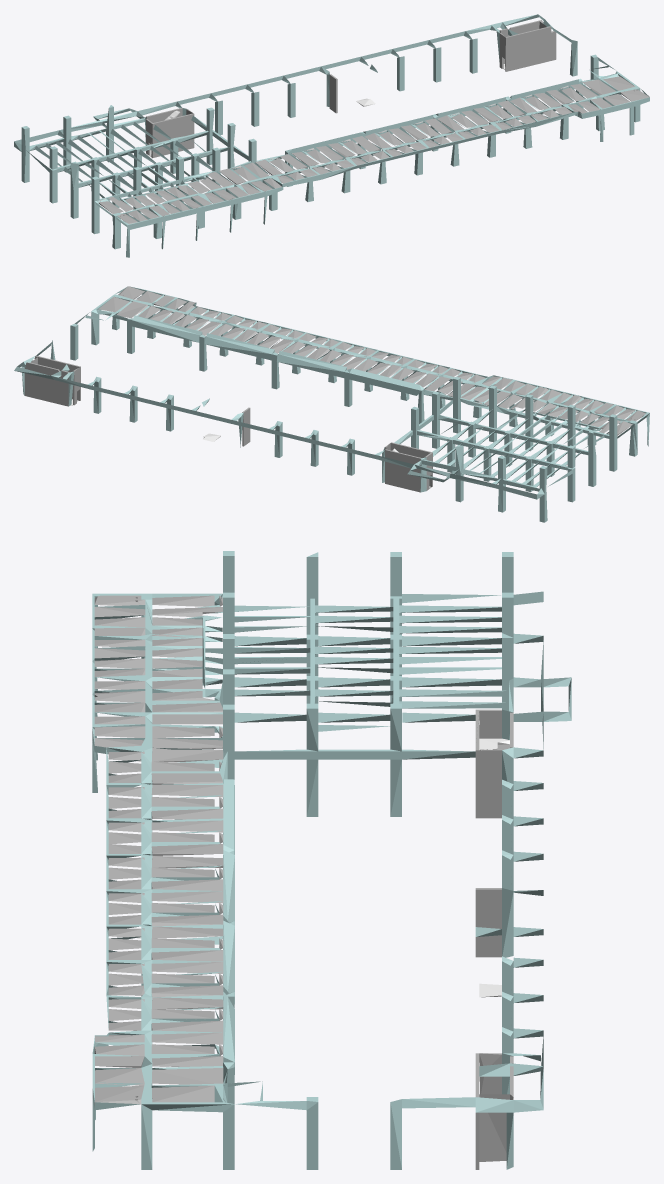
The model's file is structure-3-2f.glb.
The picture shows the model from 3 angles, top to bottom: view 1: azimuth 30°, elevation 25°; view 2: azimuth 150°, elevation 25°; view 3: azimuth 270°, elevation 25°; orthographic projection. The views are drawn at different scales.
Bounding box in the file's own units: 104 × 10.51 × 41.26.
